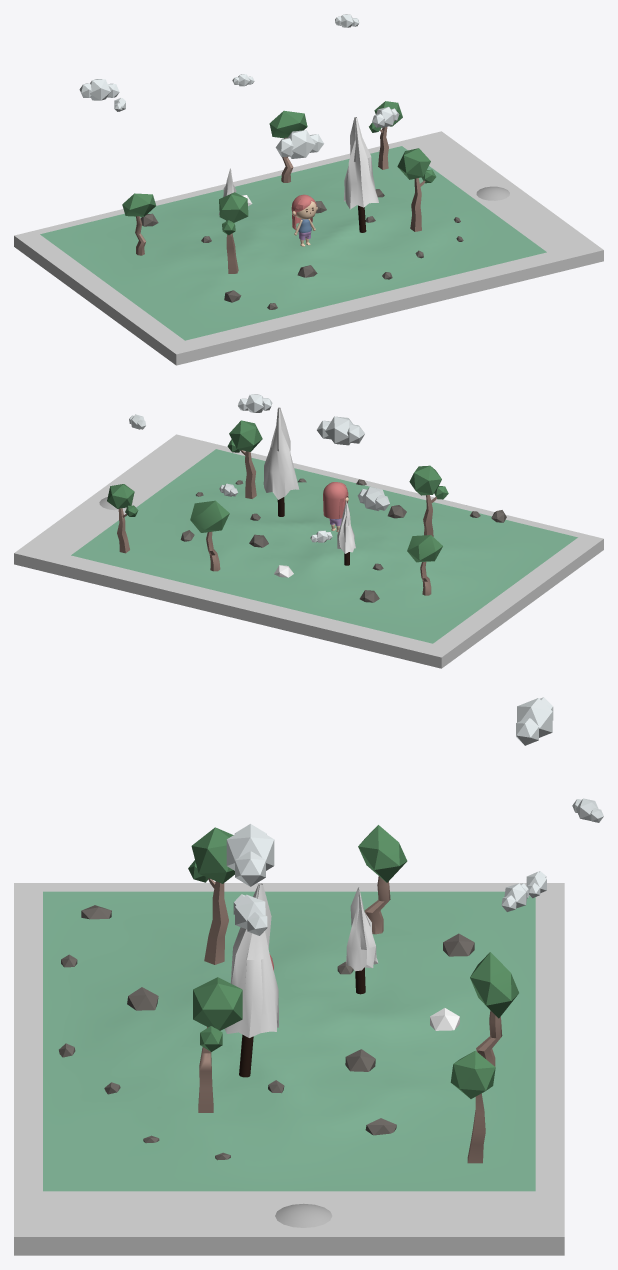
Rendered from momo_aframe.obj.
The picture shows the model from 3 angles, top to bottom: view 1: azimuth 30°, elevation 25°; view 2: azimuth 150°, elevation 25°; view 3: azimuth 270°, elevation 25°; orthographic projection. The views are drawn at different scales.
Visible parts, largest first — view 1: Landscape, Cube, Cone_1, Platonic_7, Platonic_10, Platonic_8, Platonic_9, Platonic.1_6, Cube_3; view 2: Landscape, Cube, Cone_1, Platonic_7, Sphere.1, Platonic_9, Platonic_10, Platonic_8, Cone, Platonic.1_6, Platonic, Cube_3 (+1 smaller); view 3: Landscape, Cube, Cone_1, Platonic_10, Platonic_7, Cone, Platonic_9, Platonic_8, Platonic, Platonic.1_6, Cube_2, Oil_Tank (+5 smaller).
Part boxes in pixels (left/top/right/bottom): Landscape: left=40, top=146, right=546, bottom=340; Cube: left=14, top=131, right=603, bottom=365; Cone_1: left=344, top=117, right=378, bottom=209; Platonic_7: left=269, top=110, right=307, bottom=138; Platonic_10: left=397, top=148, right=430, bottom=179; Platonic_8: left=219, top=192, right=248, bottom=222; Platonic_9: left=122, top=193, right=156, bottom=216; Platonic.1_6: left=287, top=130, right=315, bottom=158; Cube_3: left=410, top=178, right=425, bottom=231; Landscape: left=71, top=449, right=577, bottom=643; Cube: left=14, top=434, right=603, bottom=668; Cone_1: left=263, top=407, right=299, bottom=499; Platonic_7: left=190, top=500, right=229, bottom=532; Sphere.1: left=323, top=482, right=348, bottom=518; Platonic_9: left=407, top=535, right=442, bottom=562; Platonic_10: left=229, top=420, right=262, bottom=451; Platonic_8: left=409, top=465, right=441, bottom=495; Cone: left=337, top=501, right=355, bottom=553; Platonic.1_6: left=325, top=416, right=353, bottom=445; Platonic: left=107, top=484, right=134, bottom=508; Cube_3: left=240, top=450, right=256, bottom=498; Landscape: left=43, top=891, right=535, bottom=1191; Cube: left=14, top=883, right=564, bottom=1255; Cone_1: left=224, top=883, right=278, bottom=1037; Platonic_10: left=193, top=977, right=242, bottom=1030; Platonic_7: left=470, top=952, right=518, bottom=1018; Cone: left=346, top=887, right=378, bottom=971; Platonic_9: left=358, top=825, right=407, bottom=882; Platonic_8: left=191, top=827, right=234, bottom=883; Platonic: left=450, top=1050, right=495, bottom=1098; Platonic.1_6: left=226, top=825, right=274, bottom=870; Cube_2: left=204, top=878, right=228, bottom=964; Oil_Tank: left=275, top=1203, right=332, bottom=1227.
Size of the model in its own units: 2869 by 1056 by 2022.
